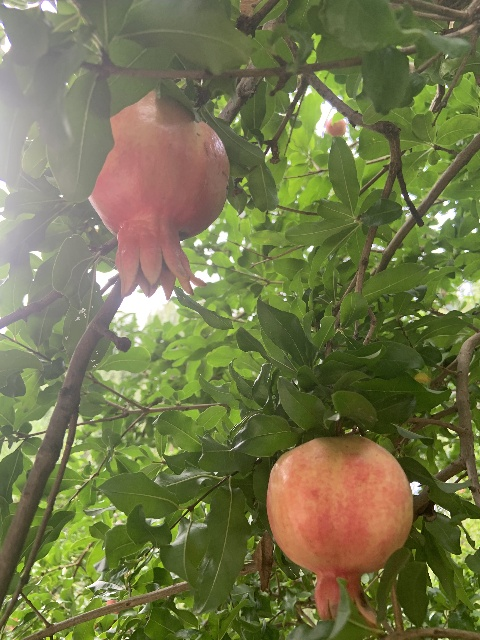ripe: (89, 88, 228, 301), (266, 434, 414, 626)
